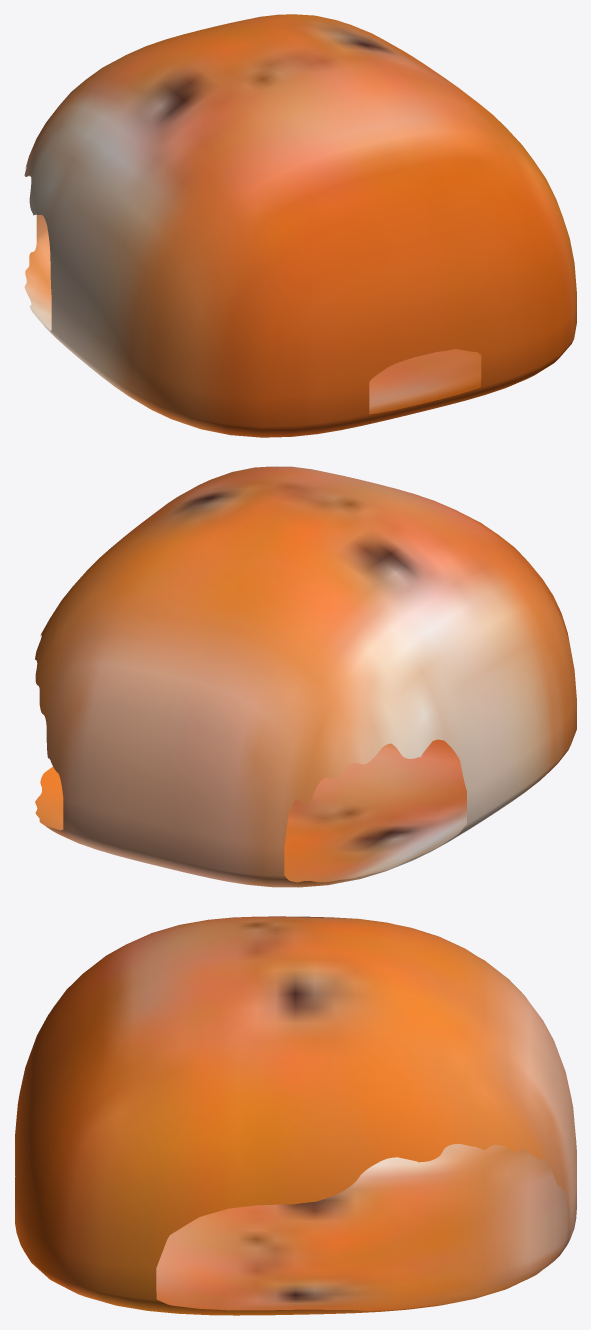
File: T01_Orange_AngryTiny.fbx
The picture shows the model from 3 angles, top to bottom: view 1: azimuth 30°, elevation 25°; view 2: azimuth 150°, elevation 25°; view 3: azimuth 270°, elevation 25°; orthographic projection.
Parts seen in each view (by area): view 1: Catalog_T01_Orange_AngryTiny; view 2: Catalog_T01_Orange_AngryTiny; view 3: Catalog_T01_Orange_AngryTiny.
Part boxes in pixels (bbox=[...]): Catalog_T01_Orange_AngryTiny: bbox=[24, 14, 576, 437]; Catalog_T01_Orange_AngryTiny: bbox=[35, 466, 576, 887]; Catalog_T01_Orange_AngryTiny: bbox=[15, 916, 576, 1315].
Bounding box in the file's own units: 0.675 × 0.4792 × 0.7589.
Materials: 1 (1 with a texture image).
